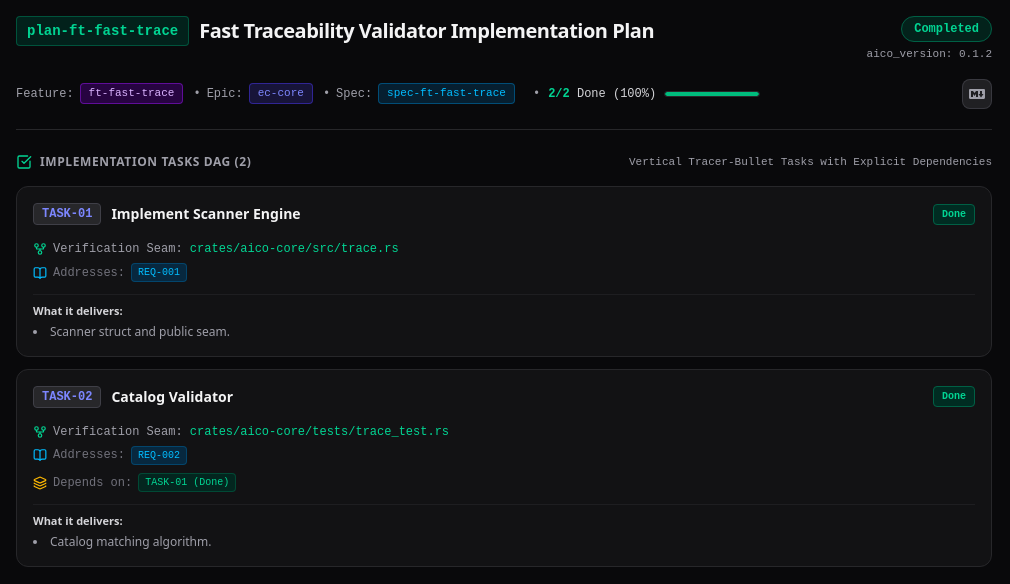
Test: PlanViewer Component › toggles between structured DAG and raw markdown with markdown toggle button
The image size is (1010, 584).
Expected: the heading "Fast Traceability Validator Implementation Plan" is shown, [199,17,654,45]
Expected: the text "Implementation Tasks DAG (2)" is shown, [40,154,251,170]
// Click markdown toggle button
What coordinates should you click on to do the following:
click the button with test id "toggle-raw-markdown"
I would click on:
 (977, 94)
Its box is [962,78,992,108].
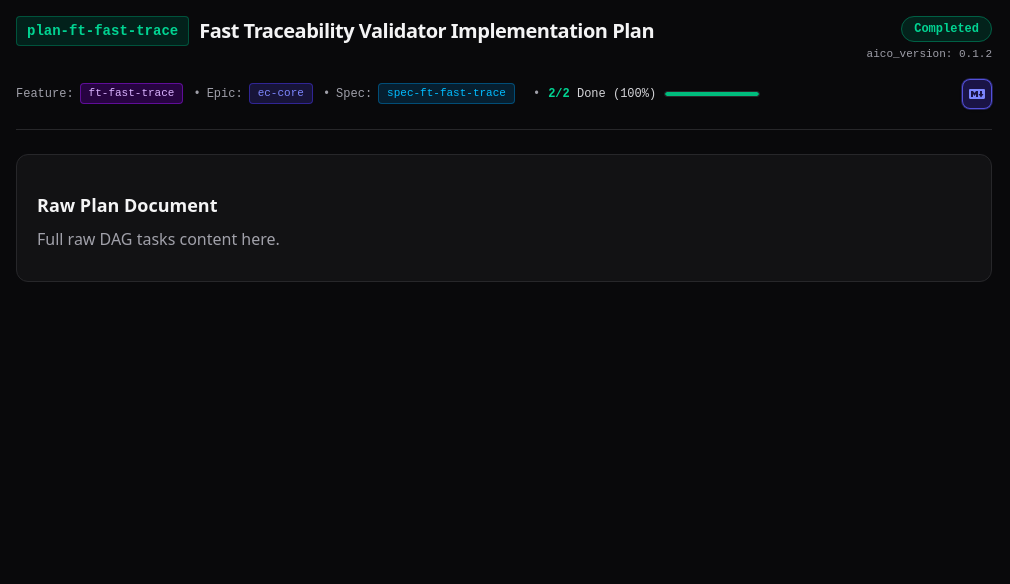
Expected: the text "Full raw DAG tasks content here." is shown, [37,228,280,250]
Expected: the text "Implementation Tasks DAG (2)" is gone
